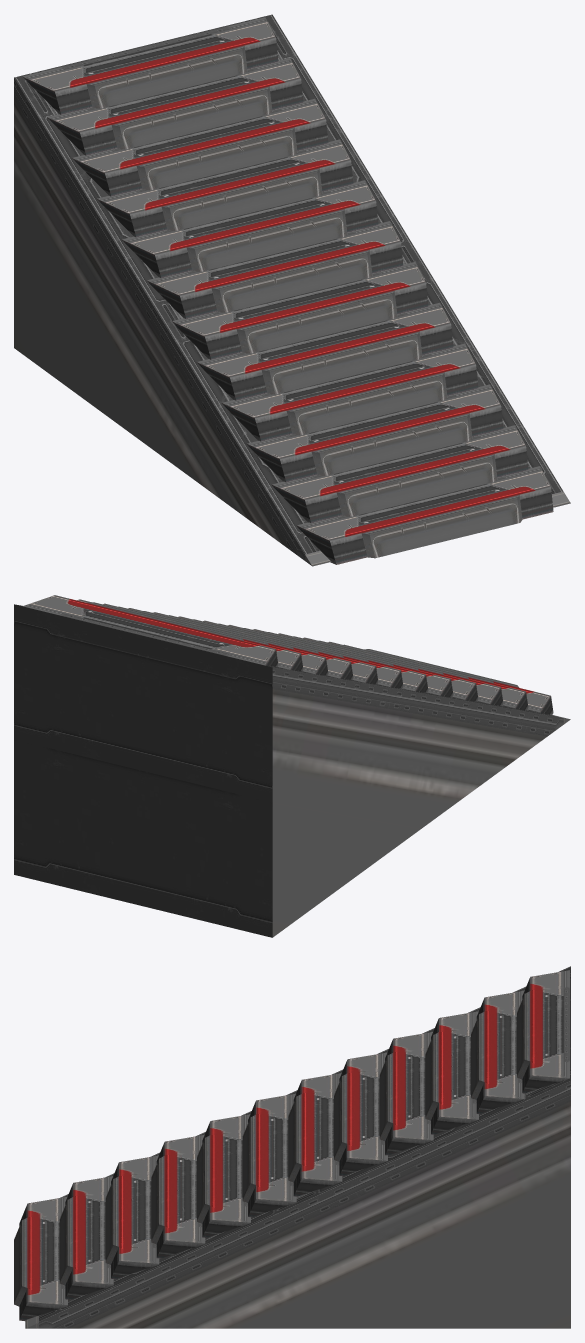
File: platform_stairs_4.gltf
3 views of the same model, one above another, from view 1: azimuth 30°, elevation 25°; view 2: azimuth 150°, elevation 25°; view 3: azimuth 270°, elevation 25° (orthographic). The views are drawn at different scales.
Visible parts, largest first — view 1: Platform_Stairs_4; view 2: Platform_Stairs_4; view 3: Platform_Stairs_4.
Part boxes in pixels (x1,y1,x2,y2): Platform_Stairs_4: [14, 14, 570, 566]; Platform_Stairs_4: [14, 595, 570, 937]; Platform_Stairs_4: [14, 966, 570, 1328].
Size of the model in its own units: 2 by 2.01 by 4.08.
Materials: 2 (2 with a texture image).
